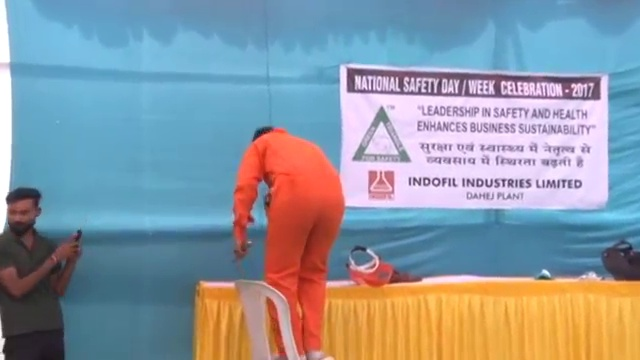helmet_off: (6, 187, 41, 236)
person: (230, 126, 344, 360), (1, 187, 84, 360)
